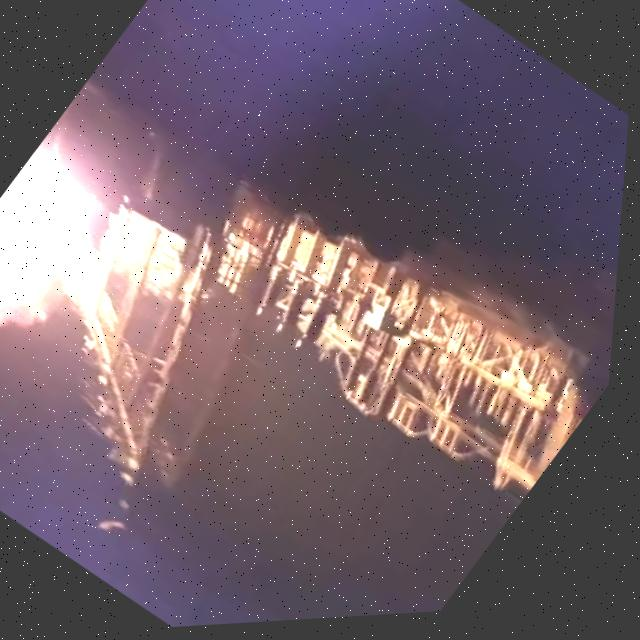Fire: (0, 137, 159, 371)
